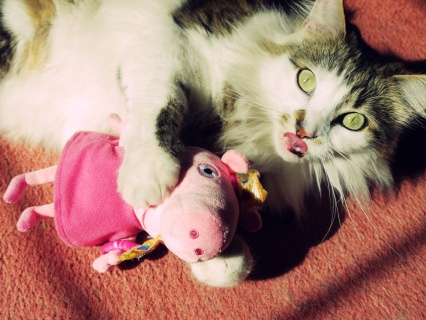Cat: (0, 0, 426, 289)
